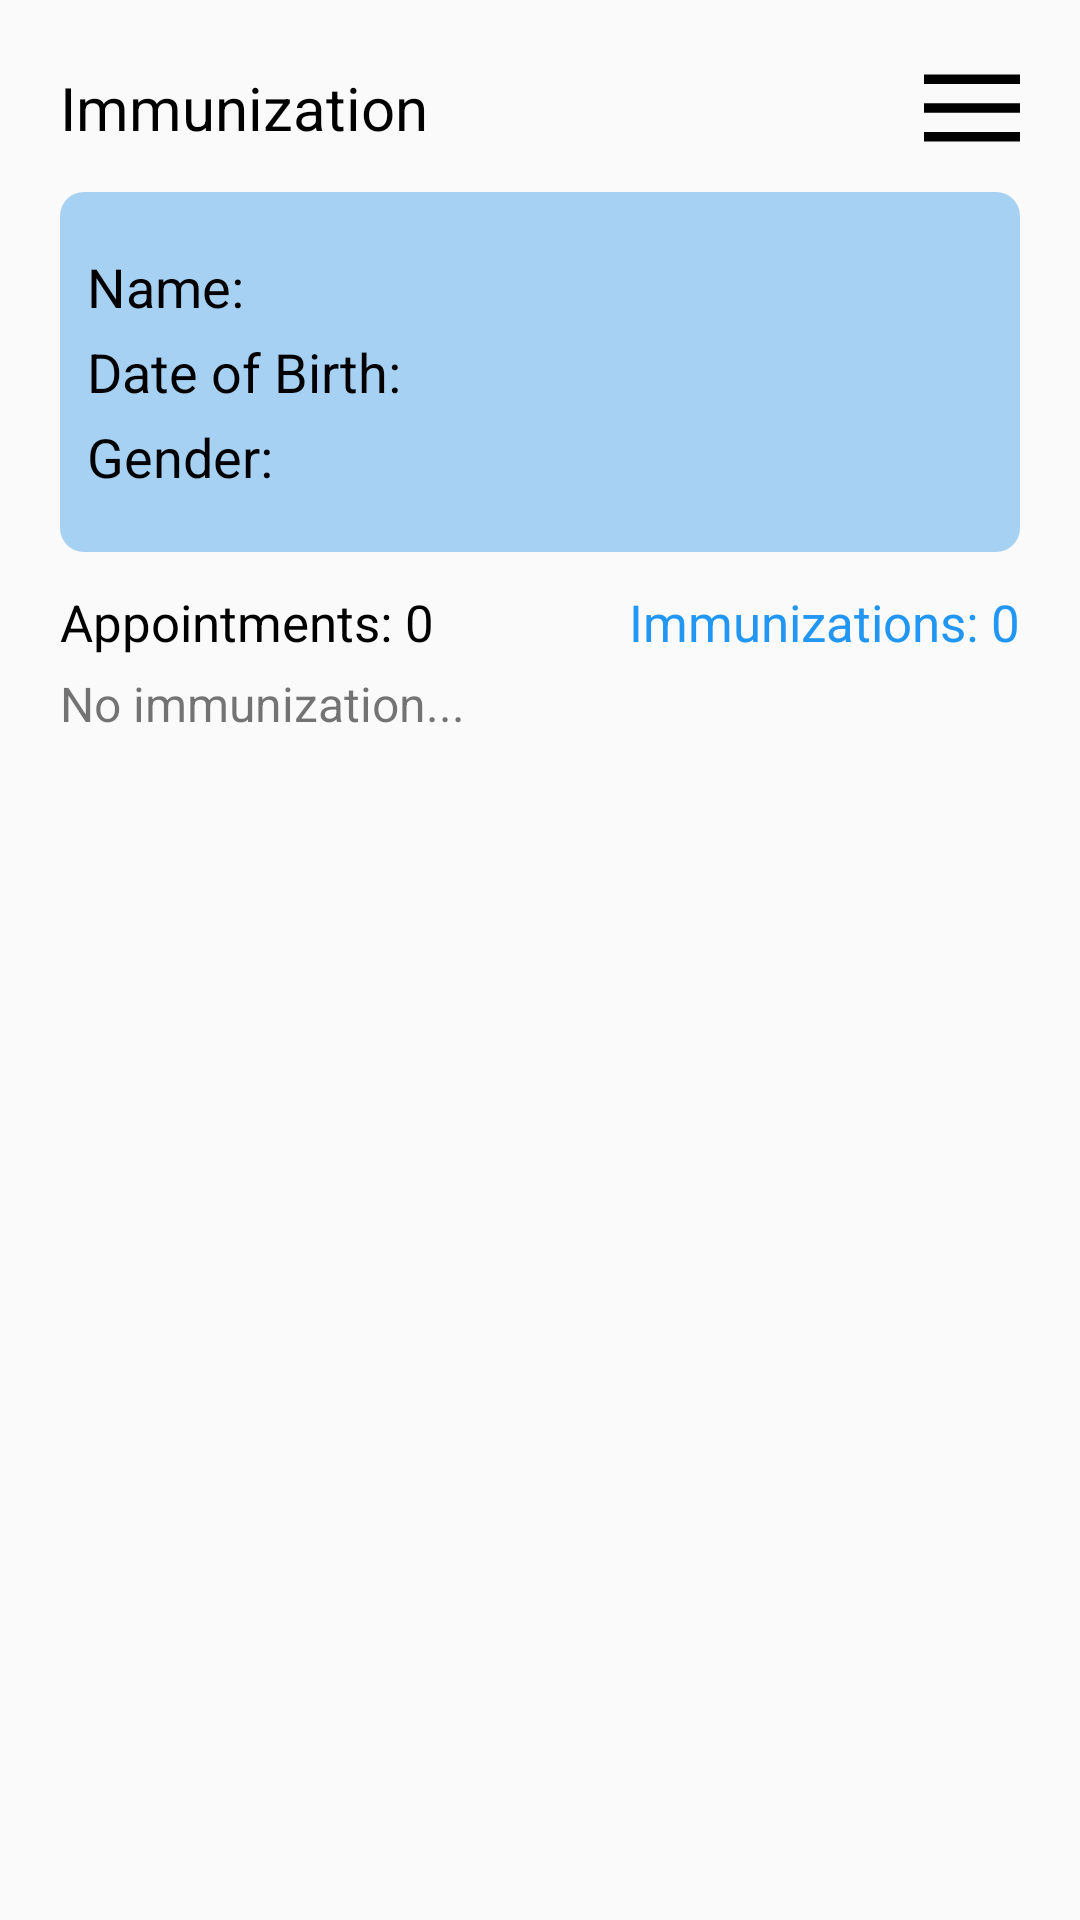

Screen size 1080 x 1920. Icon name, then its box in pixels as Rect(x1, y1, x2, y2):
menu: Rect(924, 74, 1020, 142)
